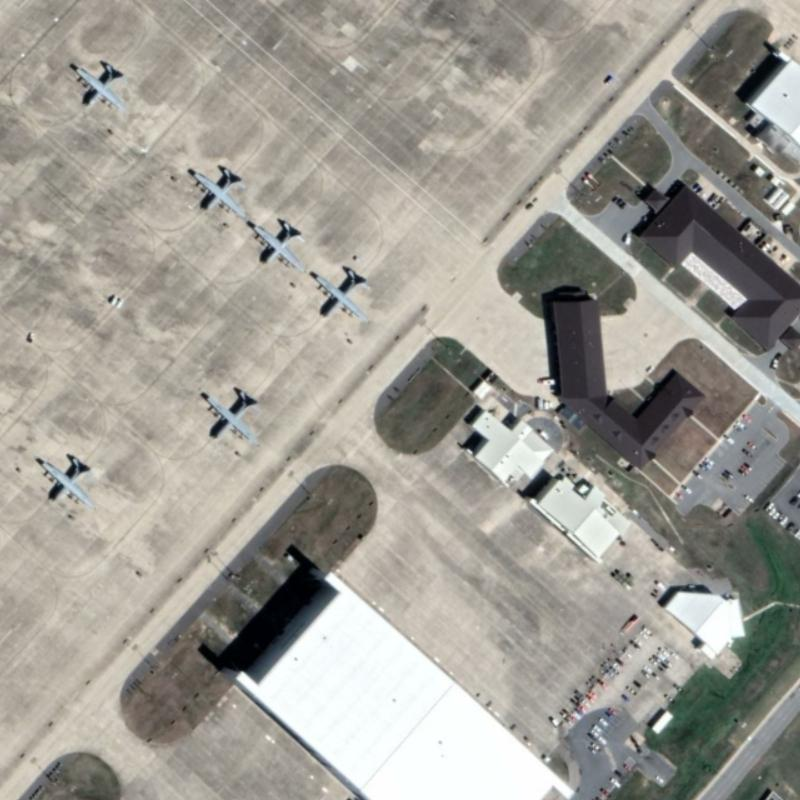A2: (305, 262, 373, 327), (200, 384, 263, 447), (246, 214, 308, 273), (34, 450, 98, 507), (188, 163, 249, 219), (72, 57, 130, 115)
